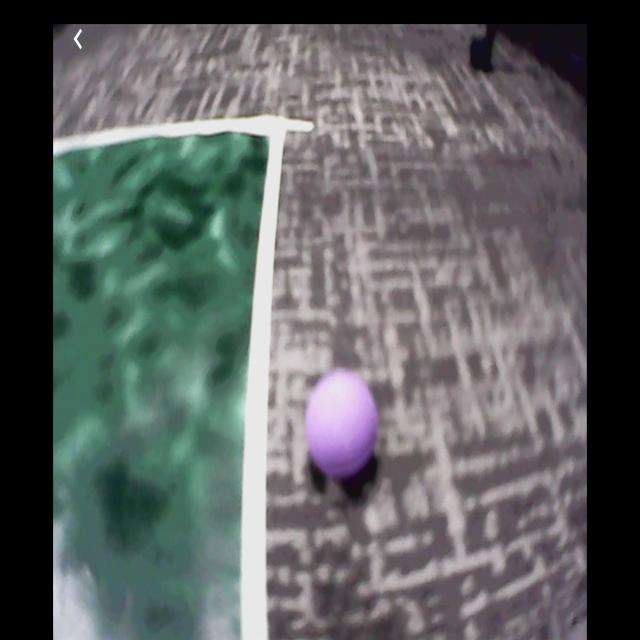ball: (305, 368, 380, 481)
